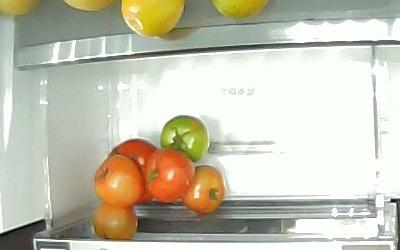tomato: (105, 137, 160, 204), (142, 147, 195, 203), (93, 152, 143, 206), (159, 114, 208, 162), (180, 164, 225, 214), (90, 199, 138, 240)
